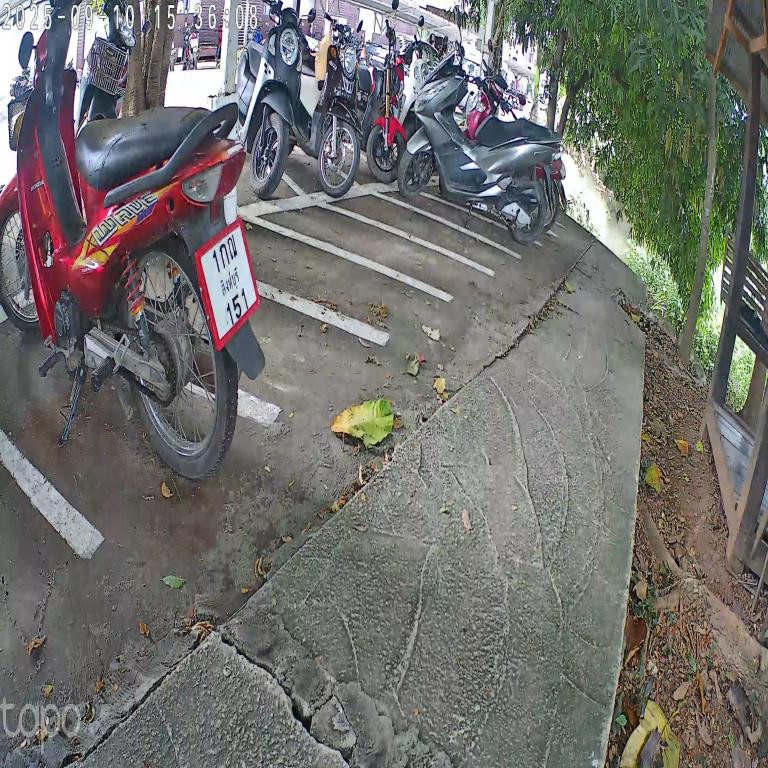license plate: (189, 208, 265, 356)
